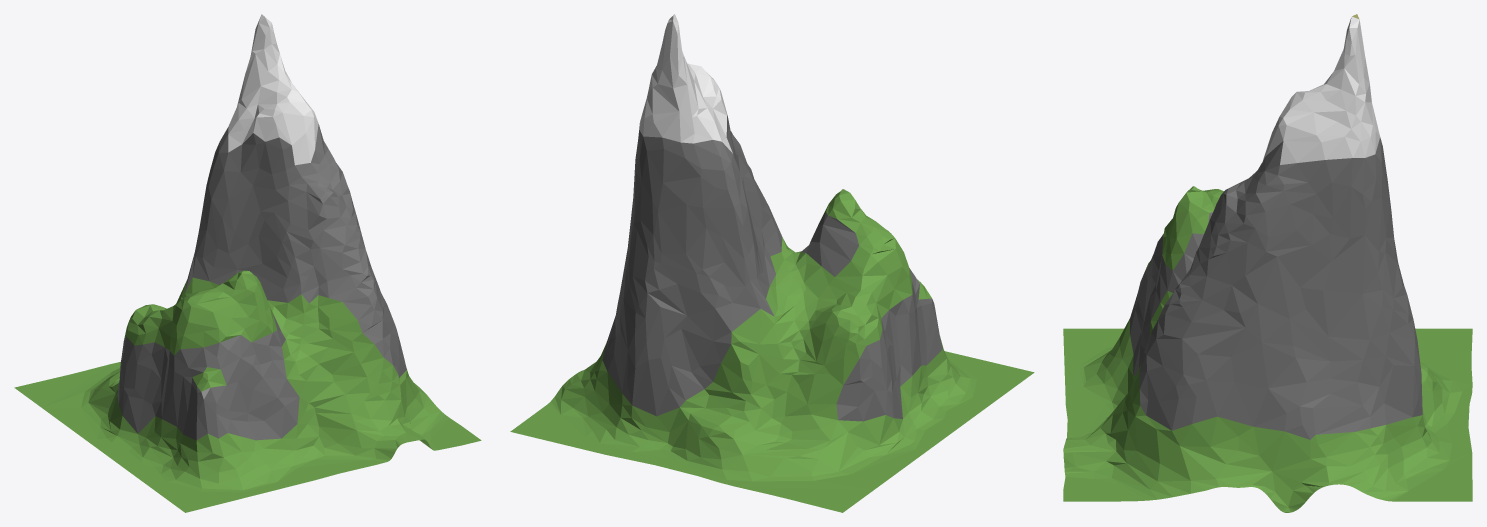
The model's file is Mountwintow.fbx.
3 views of the same model, side by side, from view 1: azimuth 30°, elevation 25°; view 2: azimuth 150°, elevation 25°; view 3: azimuth 270°, elevation 25° (orthographic). The views are drawn at different scales.
Parts seen in each view (by area): view 1: Mountwintow; view 2: Mountwintow; view 3: Mountwintow.
Boxes of the visible parts, x1,y1,x2,y2 form: Mountwintow: (14, 14, 481, 512); Mountwintow: (510, 14, 1034, 512); Mountwintow: (1063, 14, 1472, 512).
Size of the model in its own units: 20 by 23.98 by 20.
